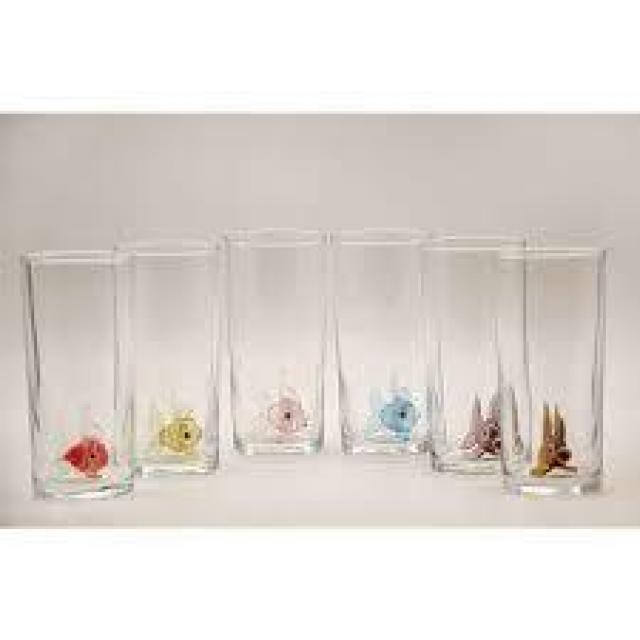non-organic waste: (17, 249, 137, 502), (498, 248, 606, 492), (220, 233, 328, 458), (328, 226, 431, 457)
